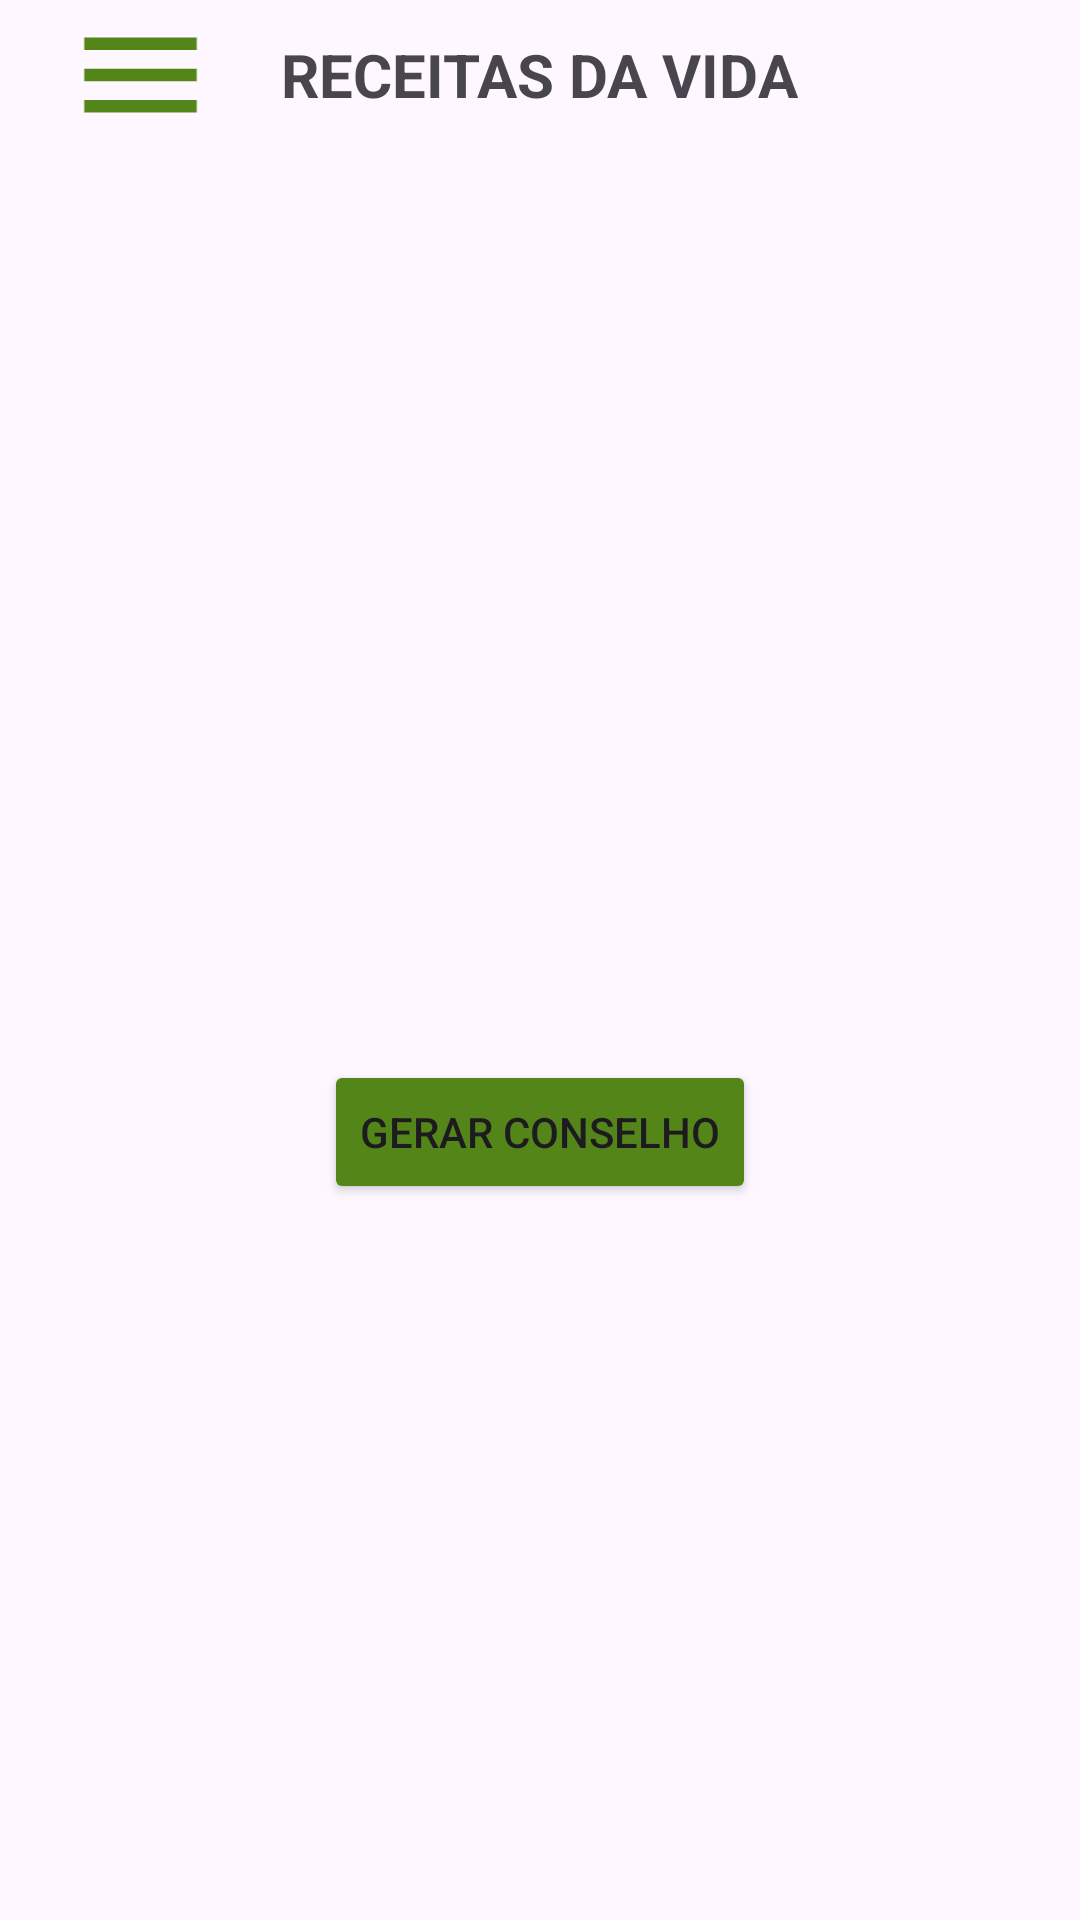

Icons on this 1080w x 1920h Android screen, each with its box as (x1, y1, x2, y2):
iconmenu: (83, 37, 198, 113)
